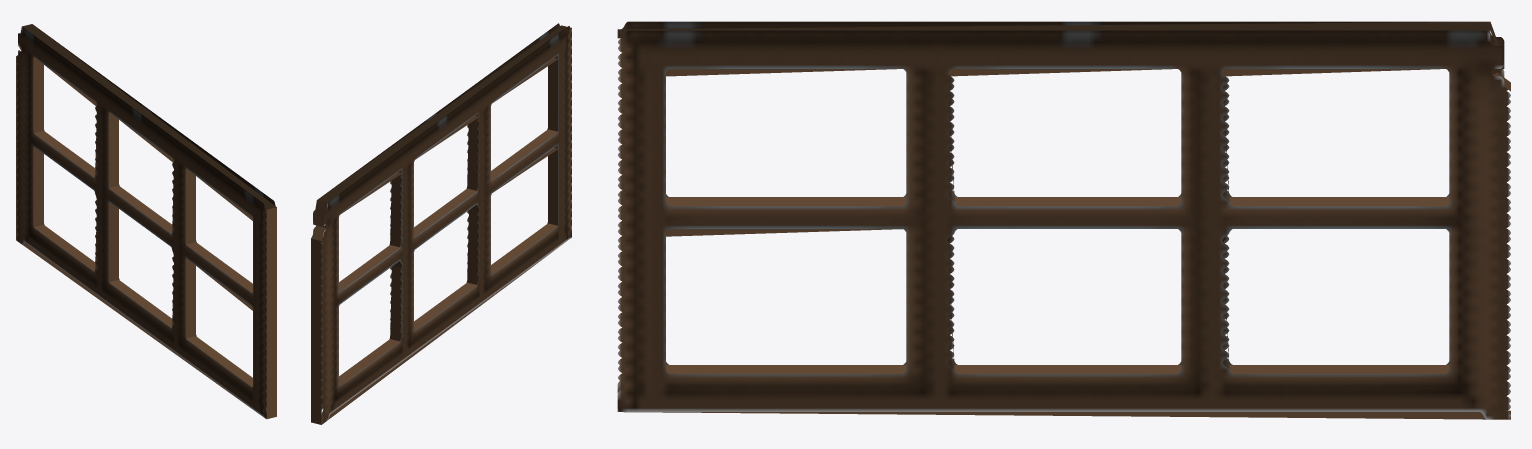
Rendered from pz_native_fixtures_windows_wood_12_frame.obj.
The picture shows the model from 3 angles, left to right: view 1: azimuth 30°, elevation 25°; view 2: azimuth 150°, elevation 25°; view 3: azimuth 270°, elevation 25°; orthographic projection. The views are drawn at different scales.
Parts seen in each view (by area): view 1: pz_native_fixtures_windows_wood_12_frame; view 2: pz_native_fixtures_windows_wood_12_frame; view 3: pz_native_fixtures_windows_wood_12_frame.
Boxes of the visible parts, x1=… form: pz_native_fixtures_windows_wood_12_frame: x1=16, y1=24, x2=276, y2=419; pz_native_fixtures_windows_wood_12_frame: x1=311, y1=23, x2=571, y2=424; pz_native_fixtures_windows_wood_12_frame: x1=617, y1=21, x2=1510, y2=419.
Size of the model in its own units: 0.04 by 0.8438 by 1.7.
1 material, 1 textured.
